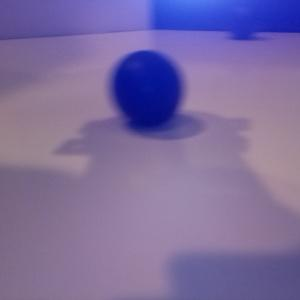dead_ball: (109, 50, 181, 125), (224, 2, 260, 38)
